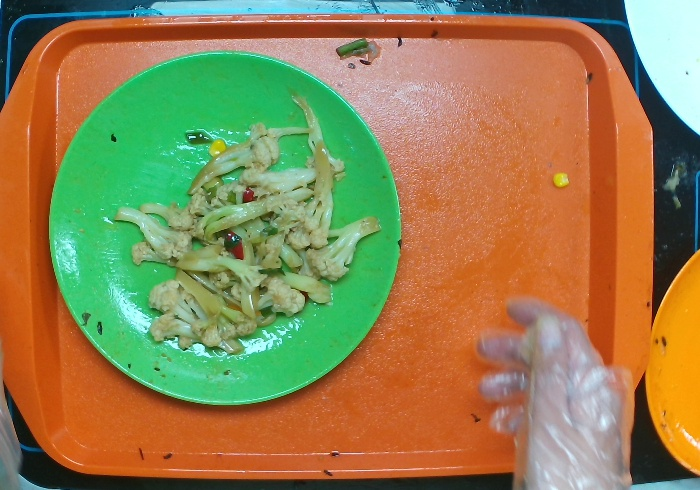HZYJPL-Lv_Se_Yuan_Pan: (44, 50, 403, 408)
